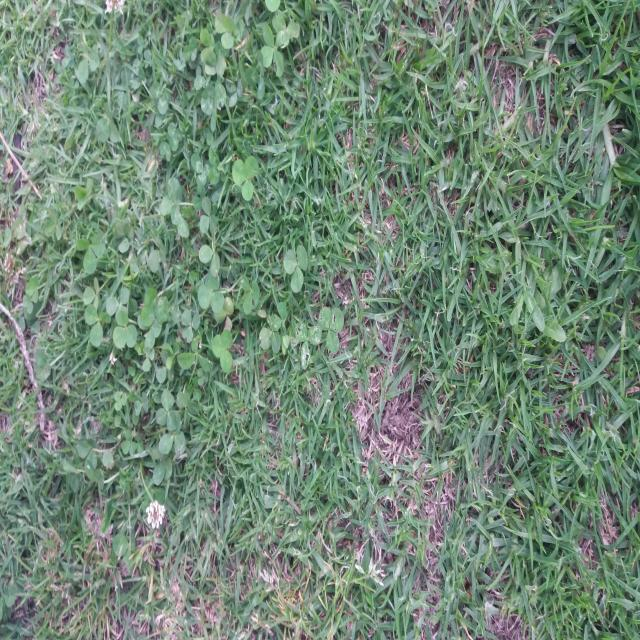Four Leaf Clover: (261, 22, 289, 77)
